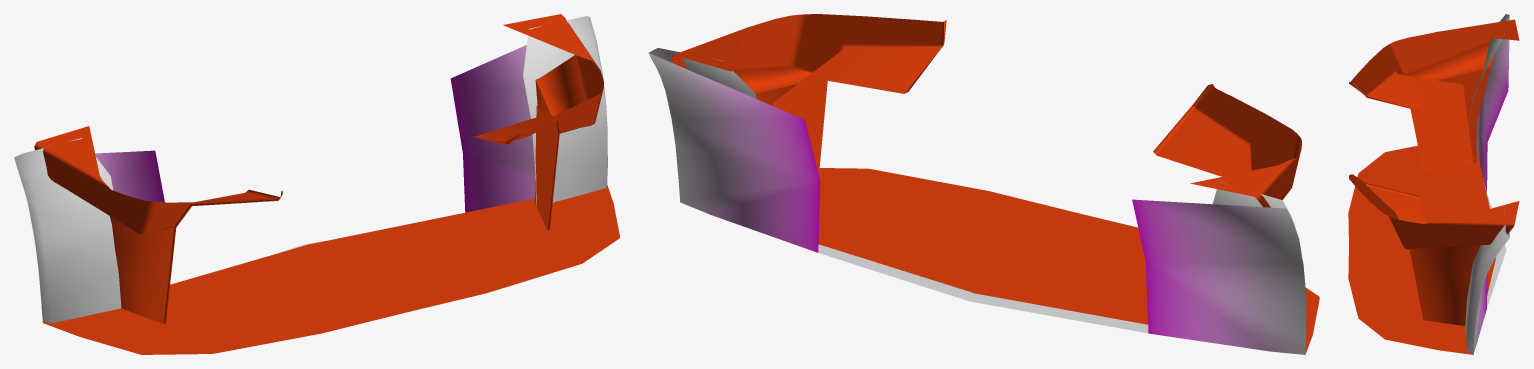
The model's file is Car_Nissan_SkylineGTRVspecR34_1999_BumperChassisF_SetF.fbx.
3 renders of one model, left to right at view 1: azimuth 30°, elevation 25°; view 2: azimuth 150°, elevation 25°; view 3: azimuth 270°, elevation 25°, orthographic. The views are drawn at different scales.
Parts seen in each view (by area): view 1: BumperChassisF 6; view 2: BumperChassisF 6; view 3: BumperChassisF 6.
Boxes of the visible parts, x1,y1,x2,y2 form: BumperChassisF 6: [14, 14, 619, 354]; BumperChassisF 6: [648, 14, 1319, 354]; BumperChassisF 6: [1348, 14, 1519, 354].
Bounding box in the file's own units: 1.83 × 0.5042 × 0.5917.
